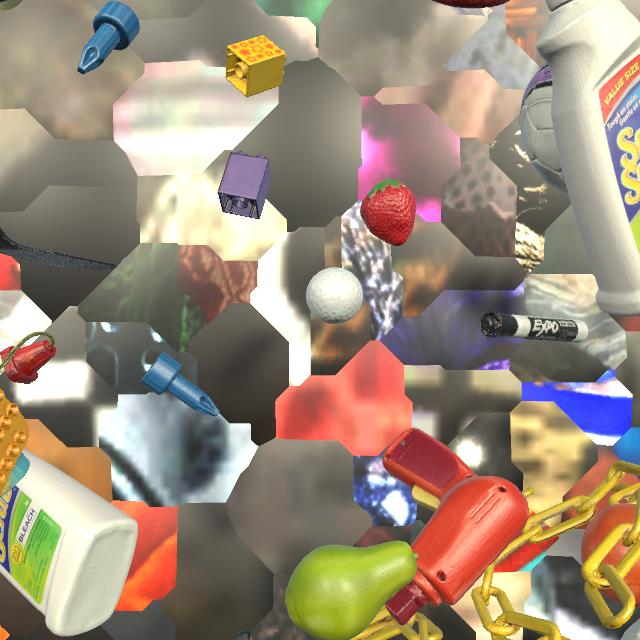ycb_012_strawberry: (360, 179, 416, 246)
ycb_016_pear: (285, 541, 419, 640)
ycb_017_orange: (581, 503, 640, 608)
